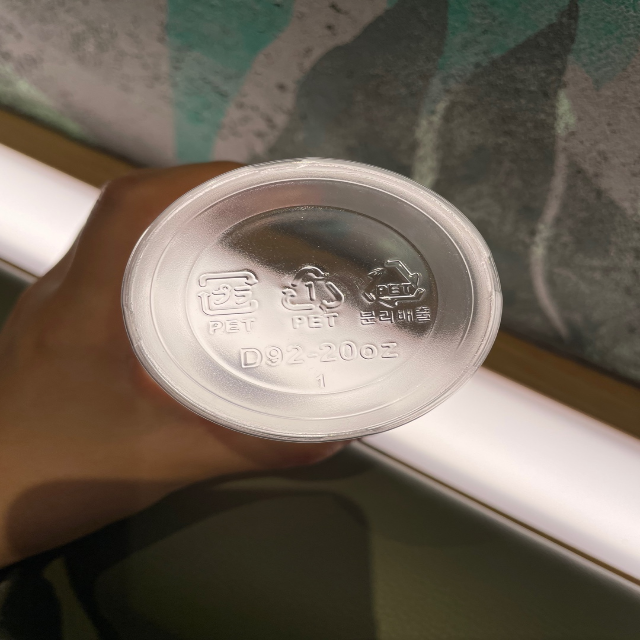pet: (354, 254, 442, 329), (189, 259, 269, 337), (276, 260, 349, 334)
